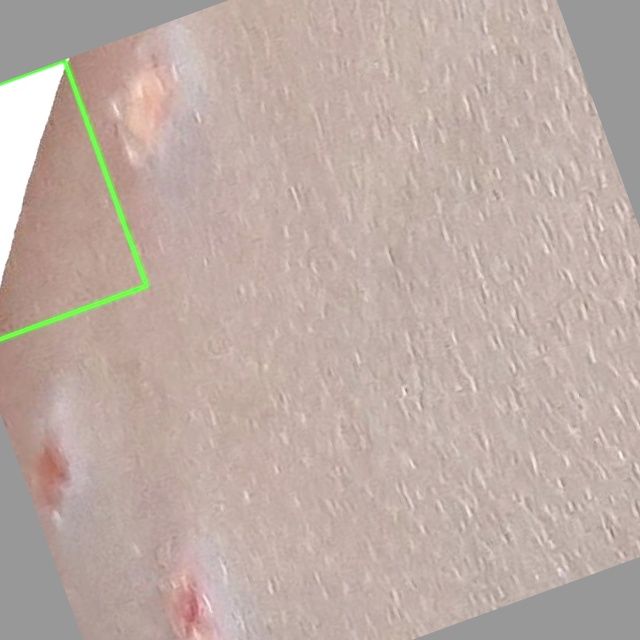Eczema: (0, 60, 146, 338)
